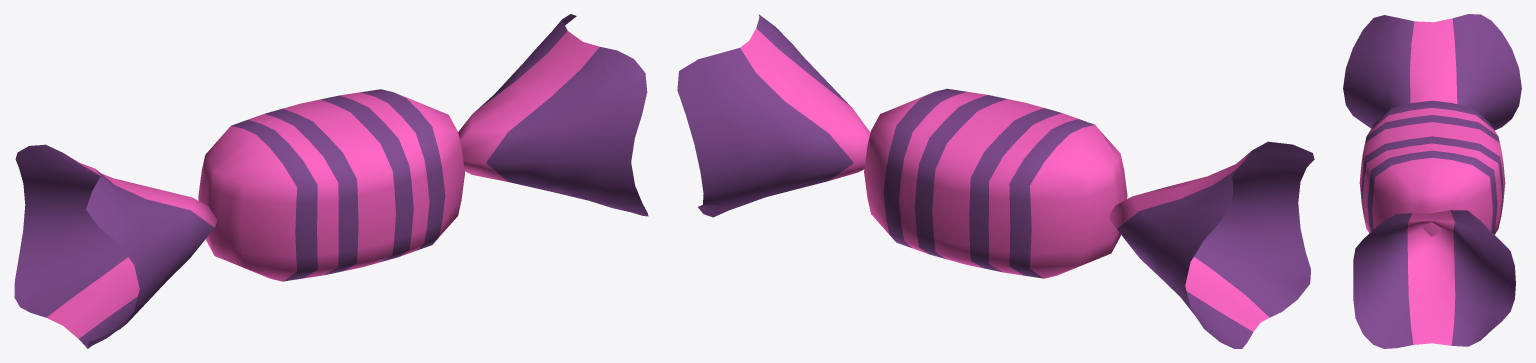
The model's file is candy_Cor4_v3.fbx.
3 renders of one model, left to right at view 1: azimuth 30°, elevation 25°; view 2: azimuth 150°, elevation 25°; view 3: azimuth 270°, elevation 25°, orthographic. The views are drawn at different scales.
Visible parts, largest first — view 1: candy; view 2: candy; view 3: candy.
Boxes of the visible parts, left/top/right/bottom form: candy: left=14, top=14, right=648, bottom=348; candy: left=677, top=14, right=1314, bottom=348; candy: left=1343, top=14, right=1521, bottom=348.
Size of the model in its own units: 29.47 by 8.43 by 10.32.
